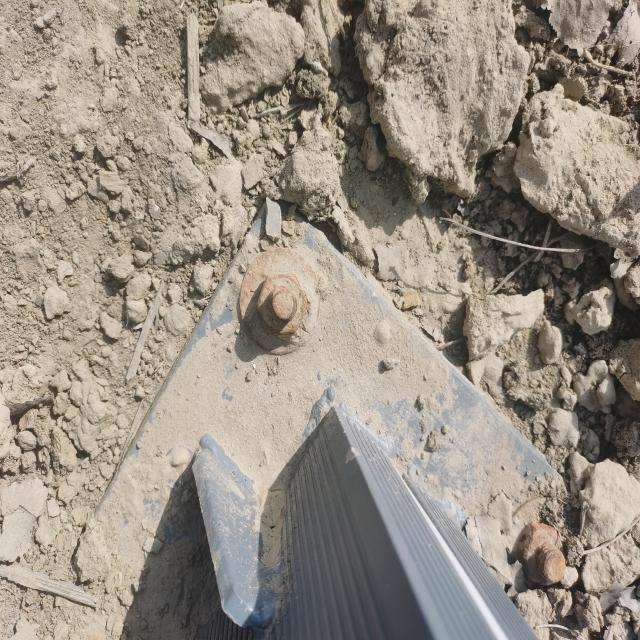bolt nut: (516, 518, 569, 591), (254, 270, 309, 337)
